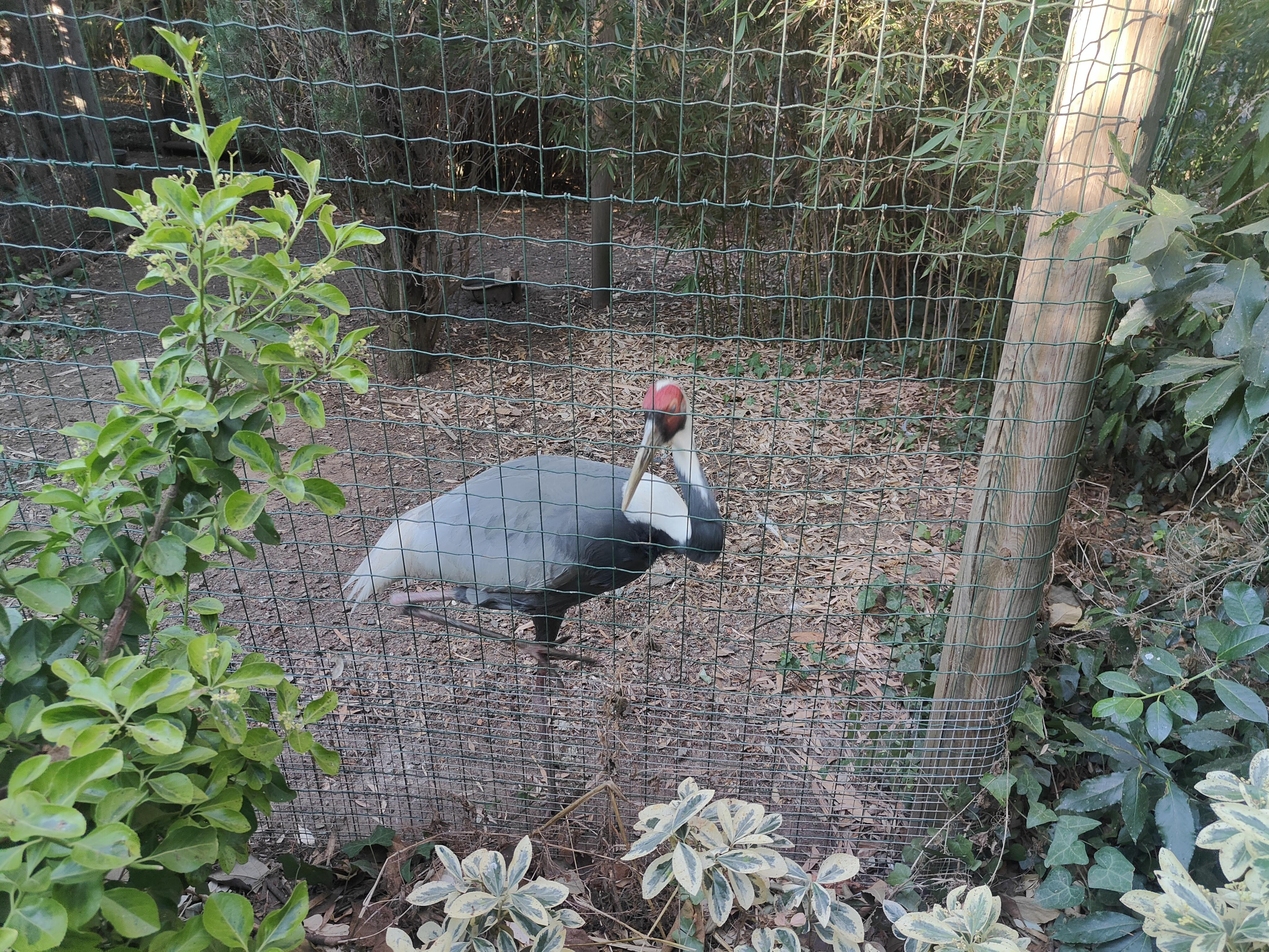apple: (337, 378, 724, 693)
